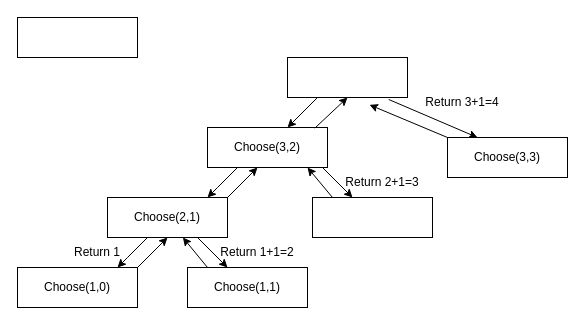
Image size: 585x325. Some labels were removed from this diagram. Here are the shapes that lost their labels. From the top down, the box of each, then its label:
(16, 16, 138, 58): Matthew Laframboise
(286, 56, 408, 98): Choose(4,3)
(312, 196, 432, 238): Choose(2,2)
